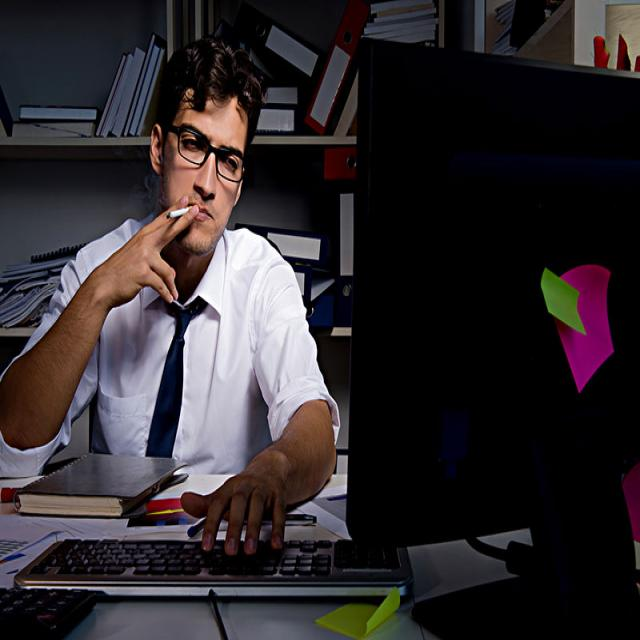smoking: (166, 201, 194, 220)
